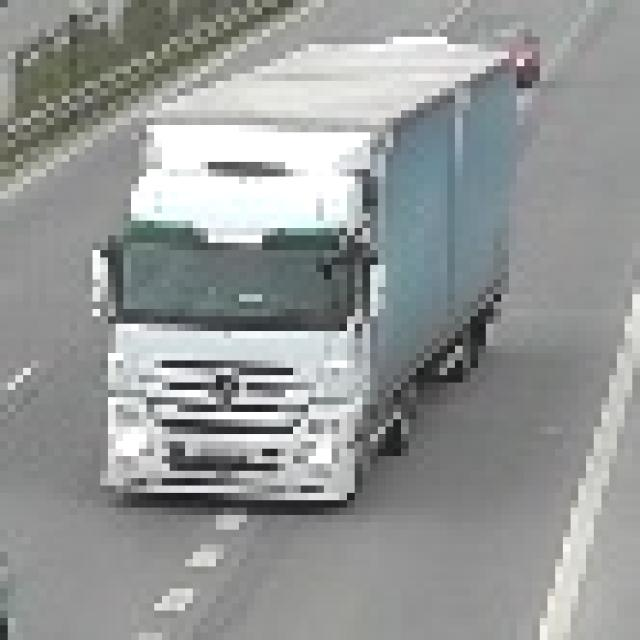TRUCK: (102, 44, 514, 503)
